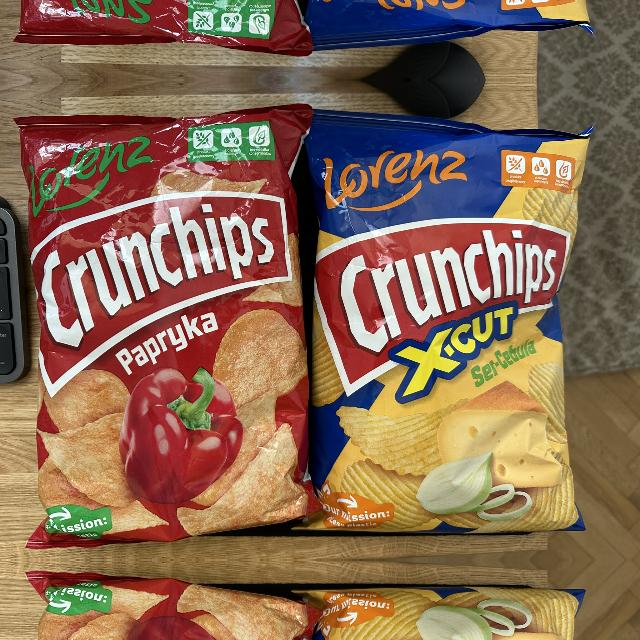crunchips: (31, 192, 294, 399), (315, 219, 571, 398)
